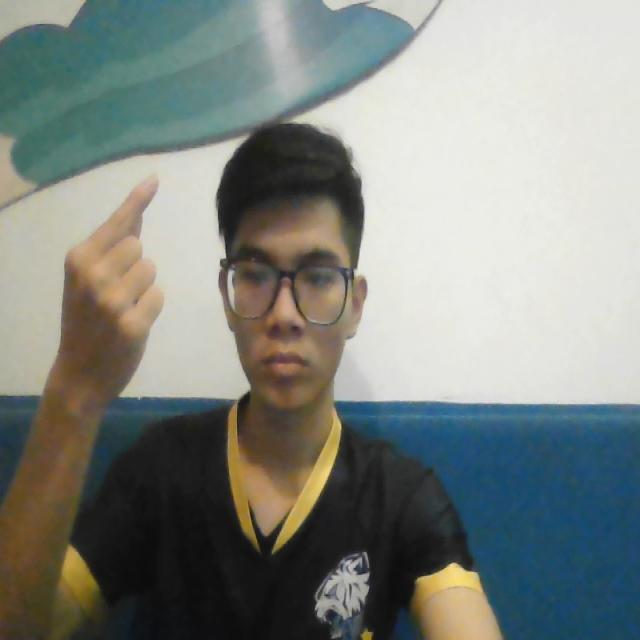G: (63, 168, 171, 393)
